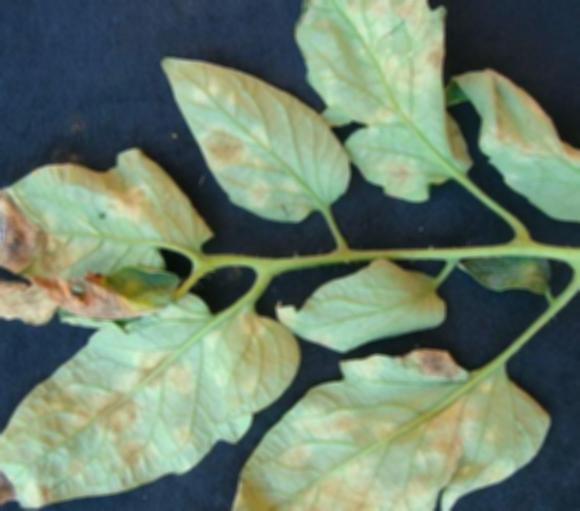Tomato mold leaf: (0, 281, 314, 511), (185, 342, 578, 511), (294, 0, 478, 209), (160, 42, 358, 222), (2, 145, 212, 274), (456, 63, 580, 220), (284, 260, 462, 358)
